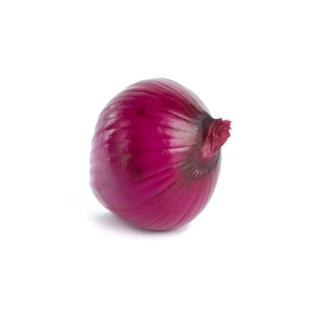Bawang Merah: (87, 76, 235, 236)
